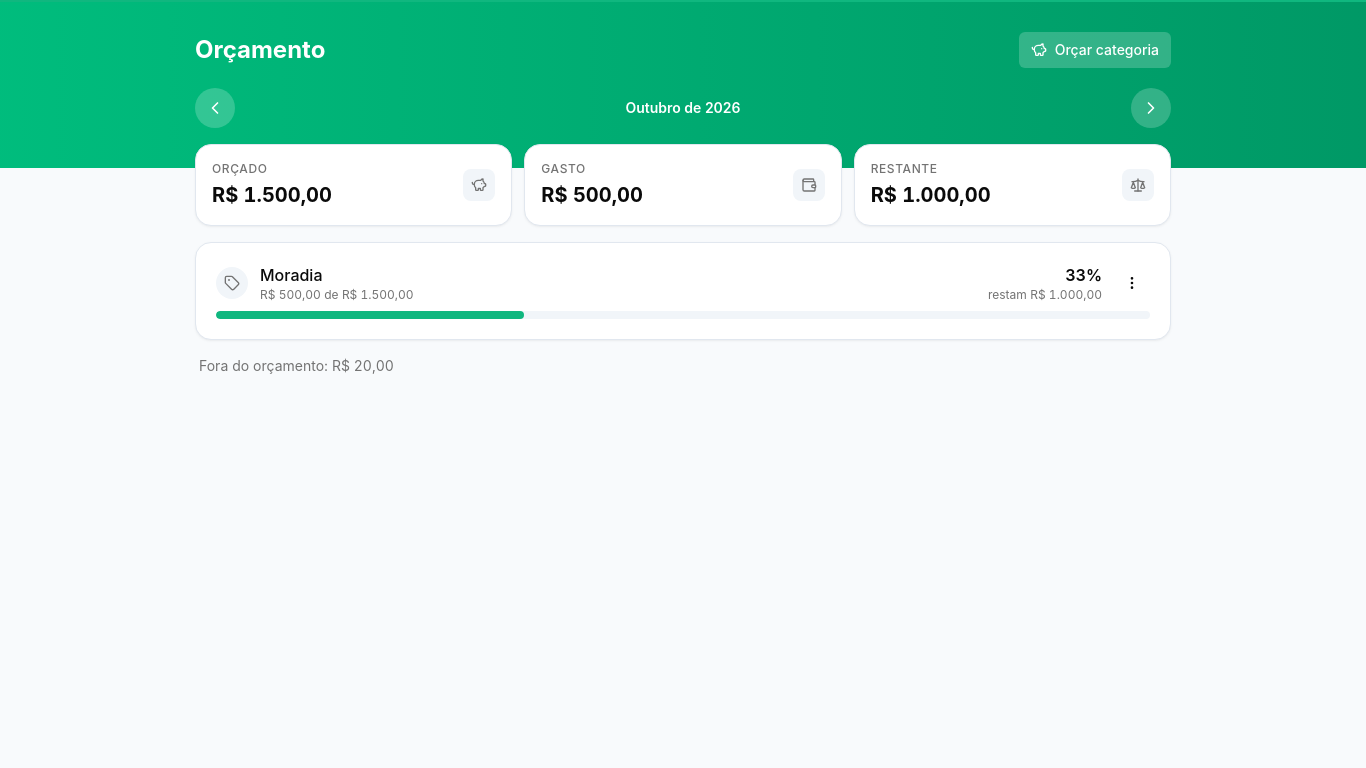
Test: BudgetsPage › abre o diálogo de orçar categoria
Click the button "Orçar categoria": point(1095, 50) [1019,32,1171,68]
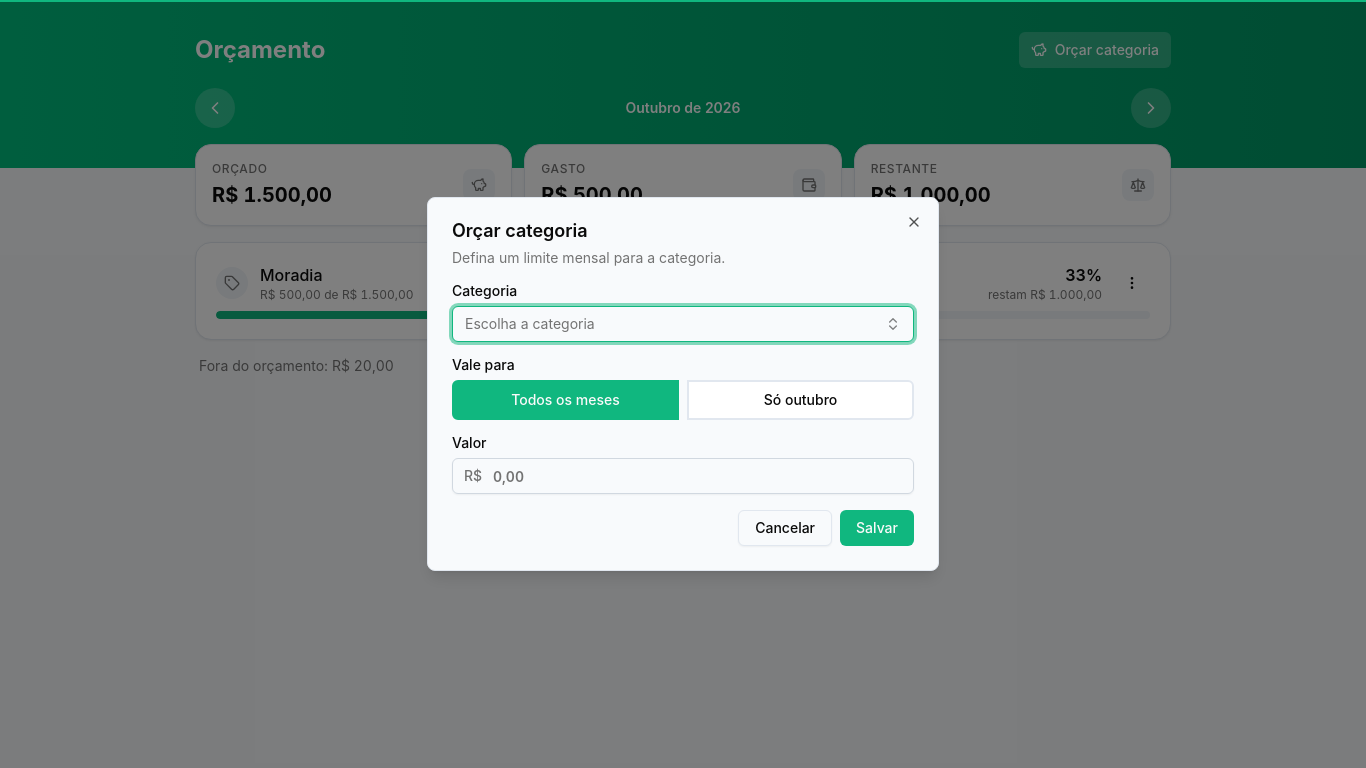
Check: the text "Defina um limite mensal para a categoria." is shown, box [452,249,725,266]
